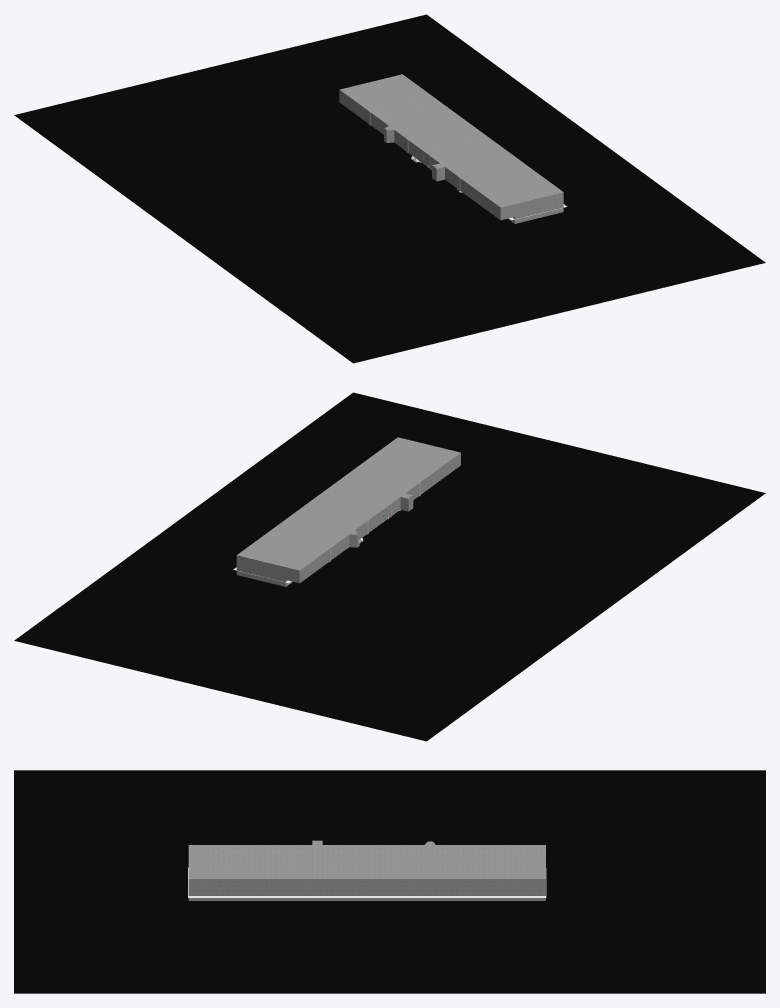
File: 06_Base_SceneV2_Sub_01.fbx
The picture shows the model from 3 angles, top to bottom: view 1: azimuth 30°, elevation 25°; view 2: azimuth 150°, elevation 25°; view 3: azimuth 270°, elevation 25°; orthographic projection. The views are drawn at different scales.
Parts seen in each view (by area): view 1: DarkBackground, Mat_Tile_FloorCement01; view 2: DarkBackground, Mat_Tile_FloorCement01; view 3: DarkBackground, Mat_Tile_FloorCement01, Water Base.
Part boxes in pixels (x1,y1,x2,y2): DarkBackground: [14, 14, 765, 363]; Mat_Tile_FloorCement01: [339, 74, 563, 223]; DarkBackground: [14, 392, 765, 741]; Mat_Tile_FloorCement01: [236, 437, 460, 586]; DarkBackground: [14, 770, 765, 993]; Mat_Tile_FloorCement01: [188, 840, 545, 900]; Water Base: [188, 867, 546, 897].
Size of the model in its own units: 101 by 10.29 by 144.
29 materials, 29 textured.
